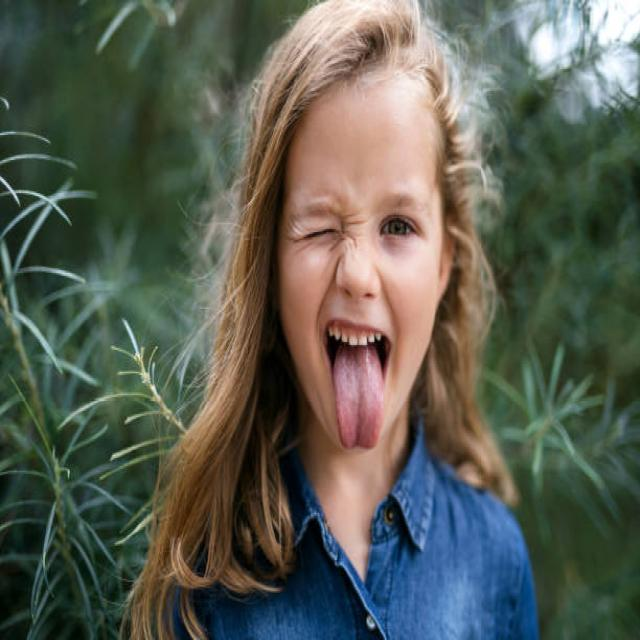tongue: (328, 347, 389, 457)
